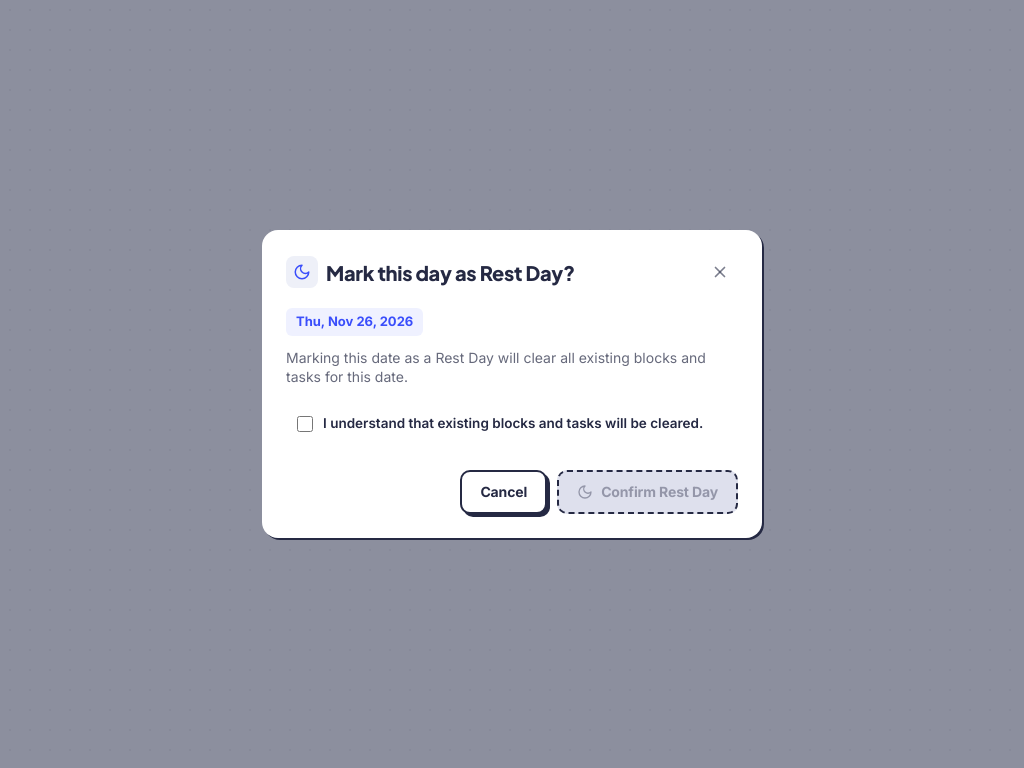
it: RestDayModal Component › displays error message and keeps modal open if API call rejects
Click the checkbox labelled "I understand that existing blocks and tasks will be cleared.": (305, 424) [297,416,313,432]
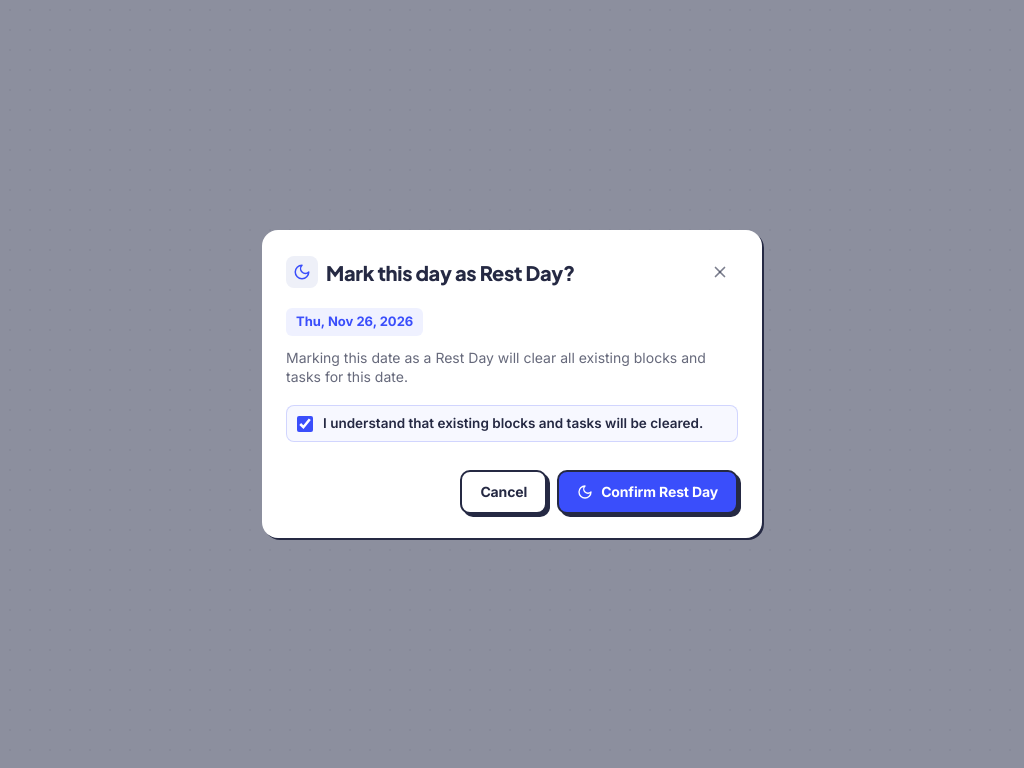
Click the button "Confirm Rest Day": (648, 492) [557,470,738,514]
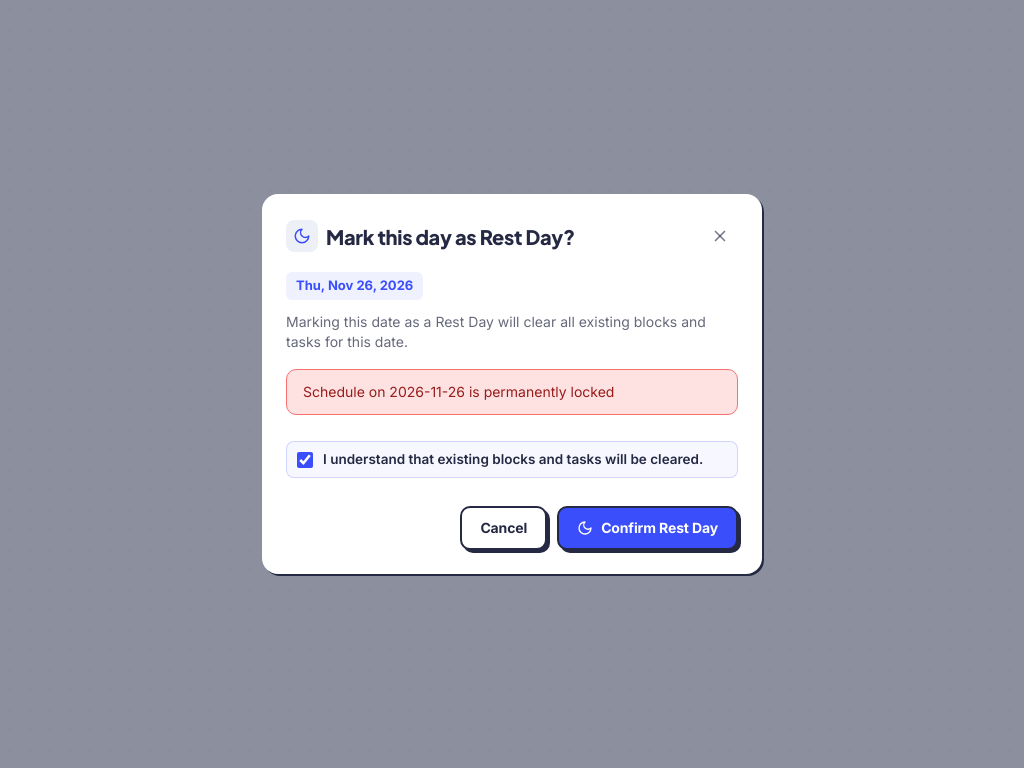
Expected: the text "Schedule on 2026-11-26 is permanently locked" is shown, [286,369,738,415]
